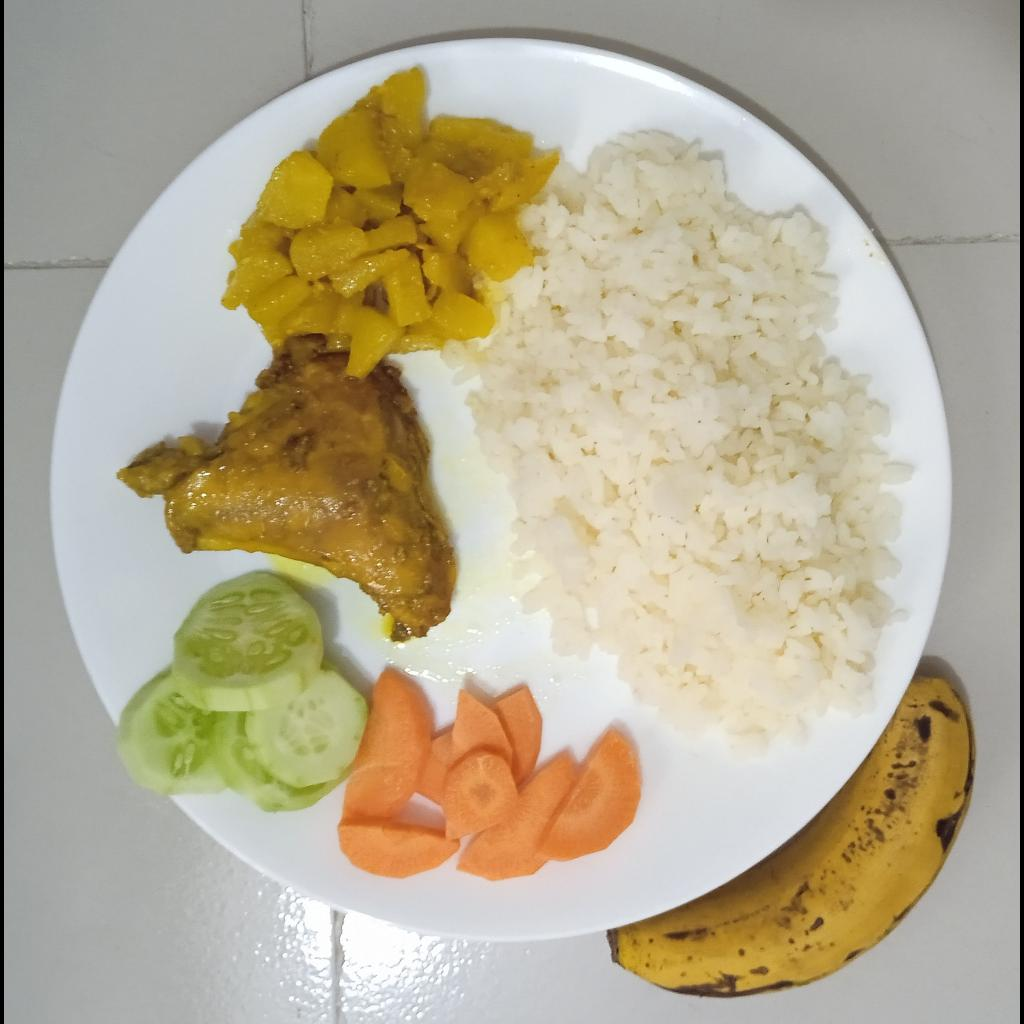banana: (609, 676, 977, 999)
carrot: (339, 669, 642, 882)
chicken: (114, 337, 460, 637)
cucumber: (119, 572, 366, 814)
kumra-vaji: (222, 68, 561, 377)
rice: (448, 132, 912, 757)
